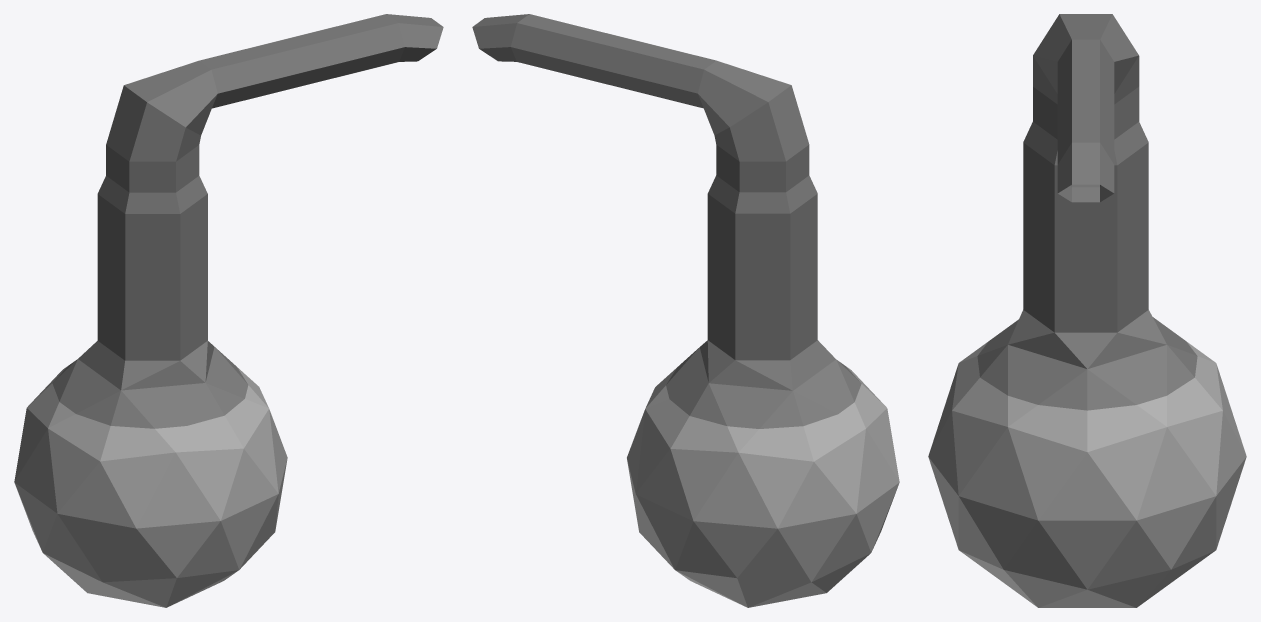
Rendered from alchemist_aparatus_749x12.gltf.
The picture shows the model from 3 angles, left to right: view 1: azimuth 30°, elevation 25°; view 2: azimuth 150°, elevation 25°; view 3: azimuth 270°, elevation 25°; orthographic projection. The views are drawn at different scales.
Visible parts, largest first — view 1: alchemist_aparatus_749x12; view 2: alchemist_aparatus_749x12; view 3: alchemist_aparatus_749x12.
Boxes of the visible parts, <box> form: alchemist_aparatus_749x12: <box>14,14,443,607</box>; alchemist_aparatus_749x12: <box>472,14,899,607</box>; alchemist_aparatus_749x12: <box>928,14,1246,607</box>.
Size of the model in its own units: 0.8656 by 1.07 by 0.5225.
2 materials, 2 textured.
